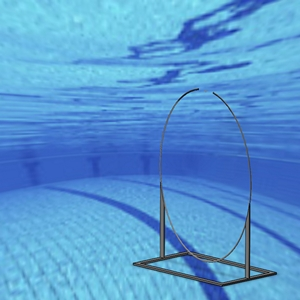circle: (133, 86, 276, 286)
